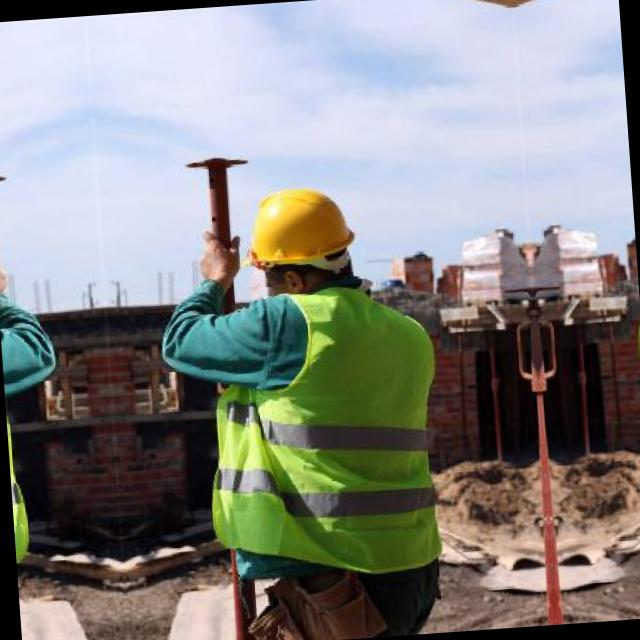helmet: (224, 167, 370, 298)
